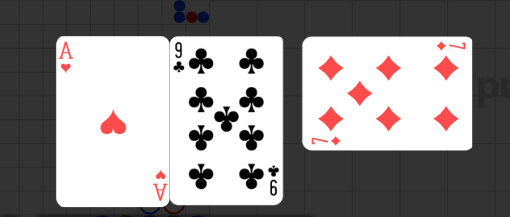7D: (435, 40, 467, 53)
9C: (173, 41, 187, 75)
AH: (58, 41, 75, 76)
